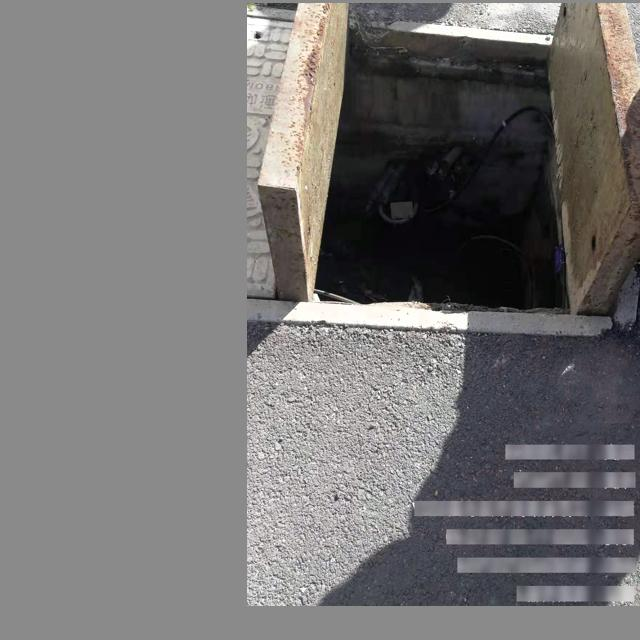uncovered: (249, 3, 635, 333)
